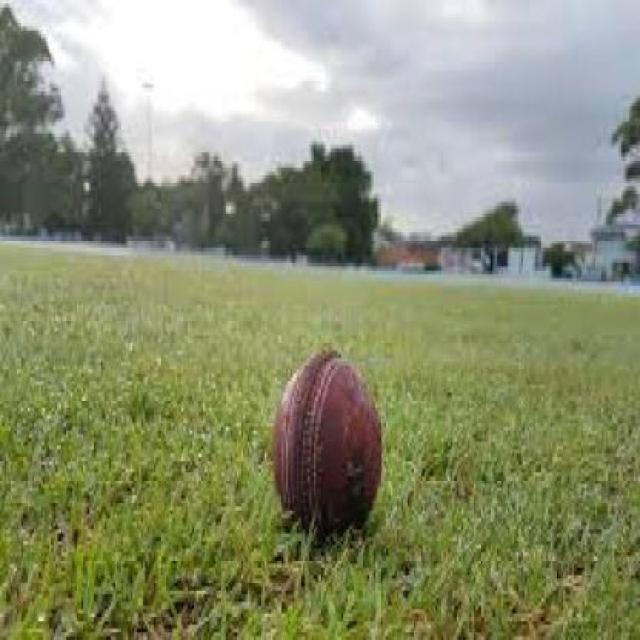Cricket ball: (265, 342, 386, 533)
